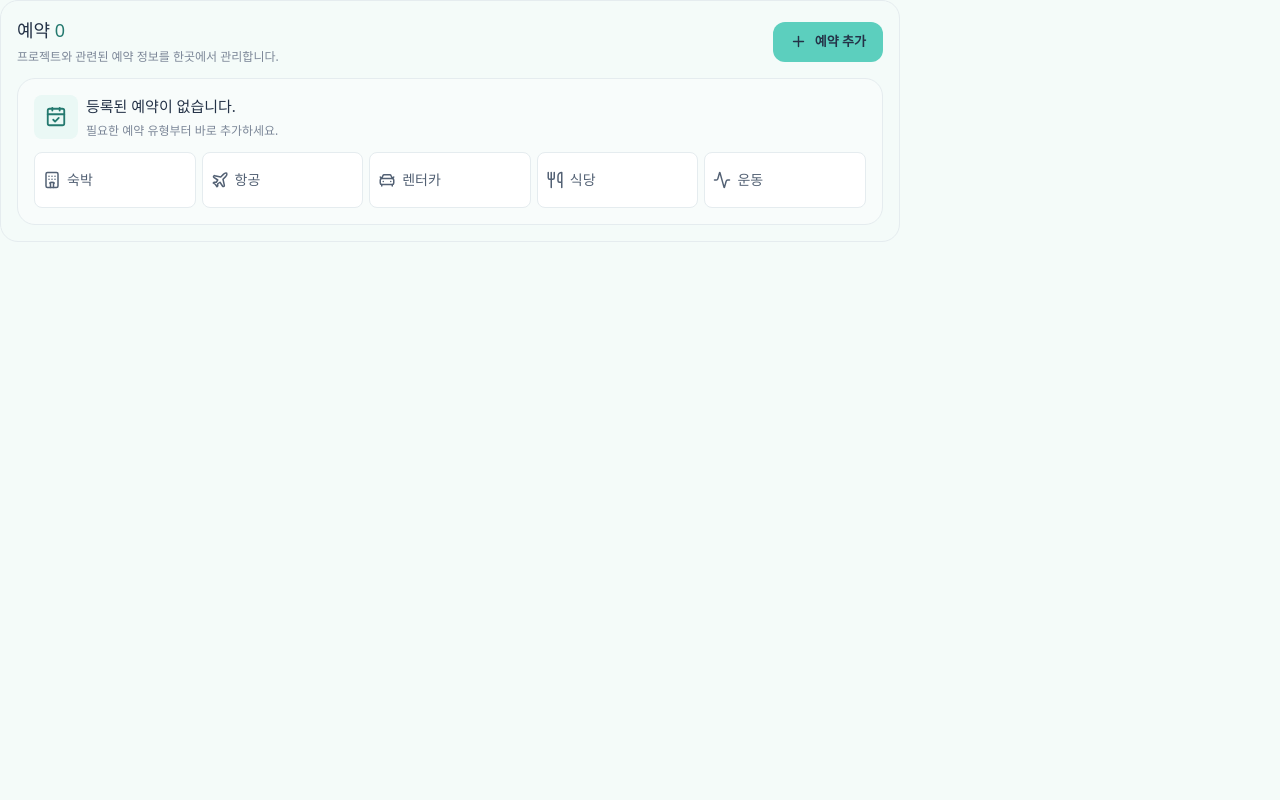
Test: project reservations › opens the generic reservation form with calendar sync enabled
This screenshot has width=1280, height=800.
Check: the heading "등록된 예약이 없습니다." is shown, box 86,96 -> 236,116
Click the button with aria-label "항공 예약 추가" at {"x": 282, "y": 180}, box 202,152 -> 363,208
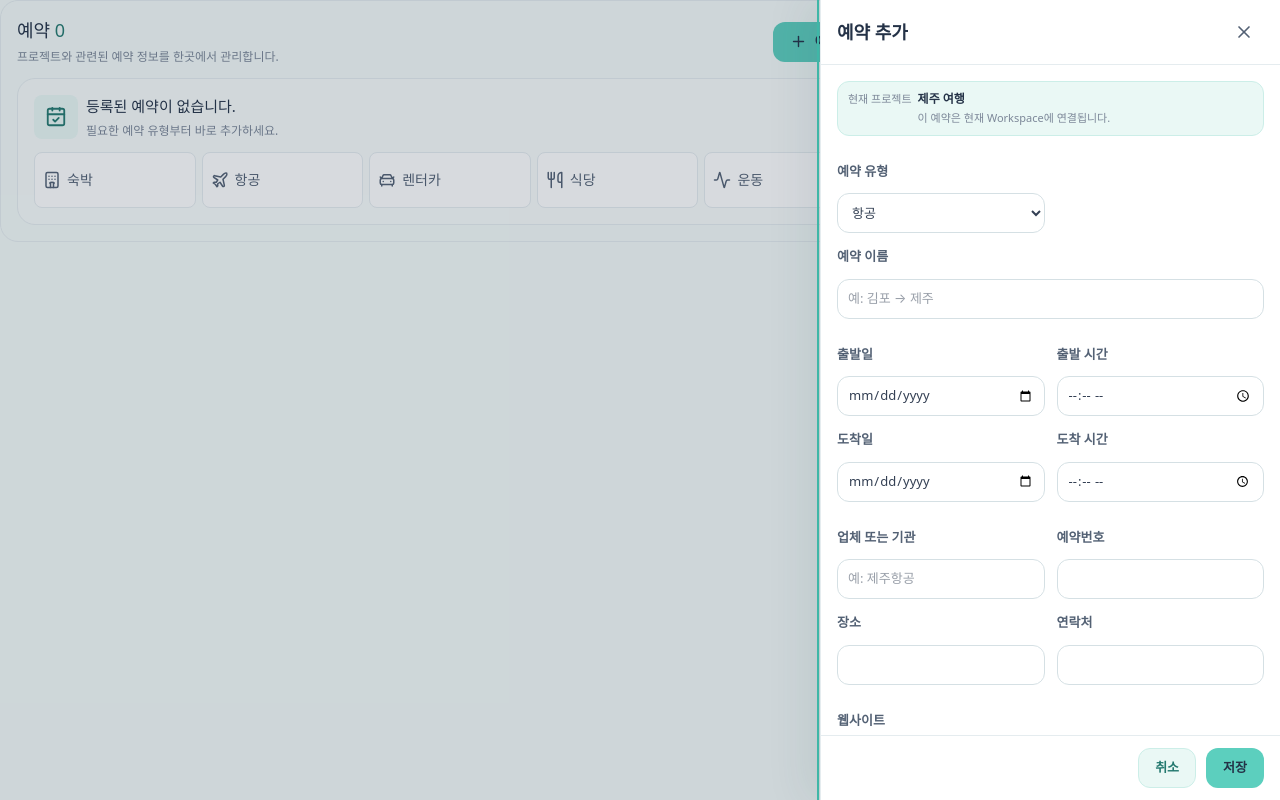
Check: the dialog "예약 추가" is shown, box 820,0 -> 1279,799
Check: the dropdown labelled "예약 유형" shows "항공", box 837,193 -> 1044,233
Check: the date field labelled "출발일" is shown
Type "2026-08-04" into the date field labelled "출발일" at {"x": 941, "y": 396}, box 837,376 -> 1044,416
(page scrolled)
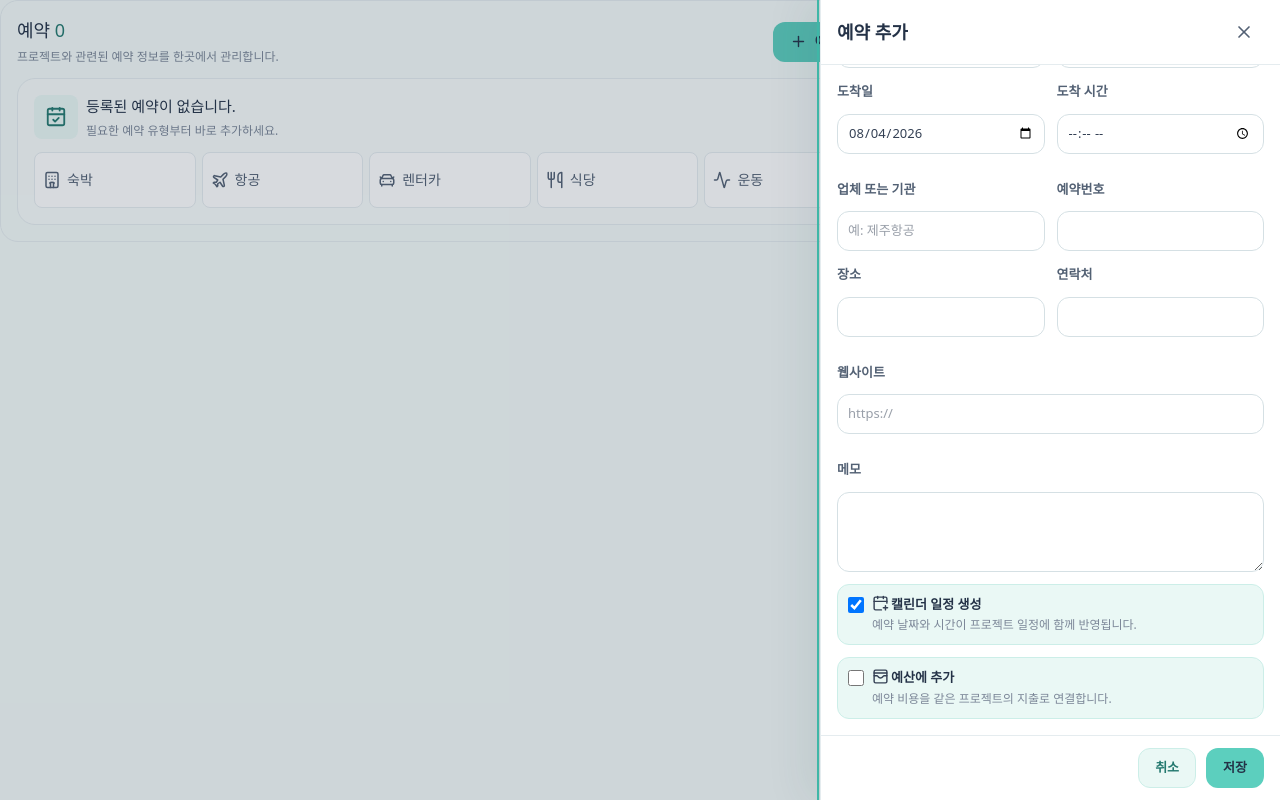
Check: the time field labelled "도착 시간" is shown, box 1056,114 -> 1264,154
Check: the date field labelled "도착일" holds "2026-08-04", box 837,114 -> 1044,154
Check: the checkbox labelled "캘린더 일정 생성 예약 날짜와 시간이 프로젝트 일정에 함께 반영됩니다." is checked, box 848,596 -> 864,612
